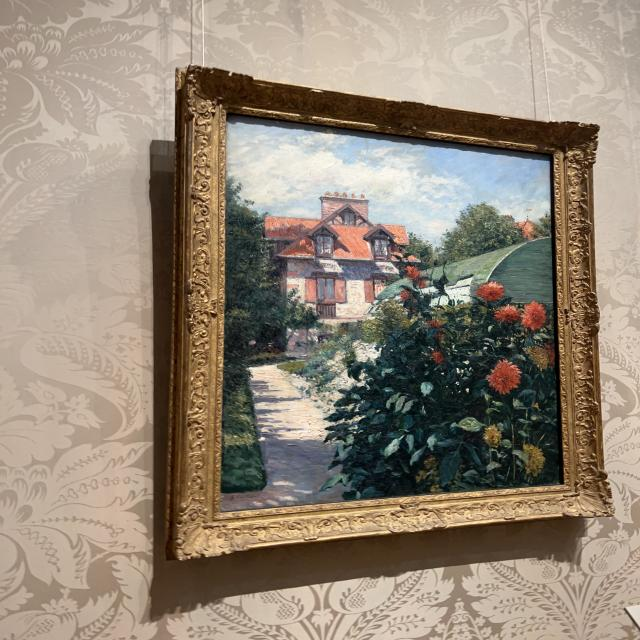summer: (222, 118, 562, 512)
